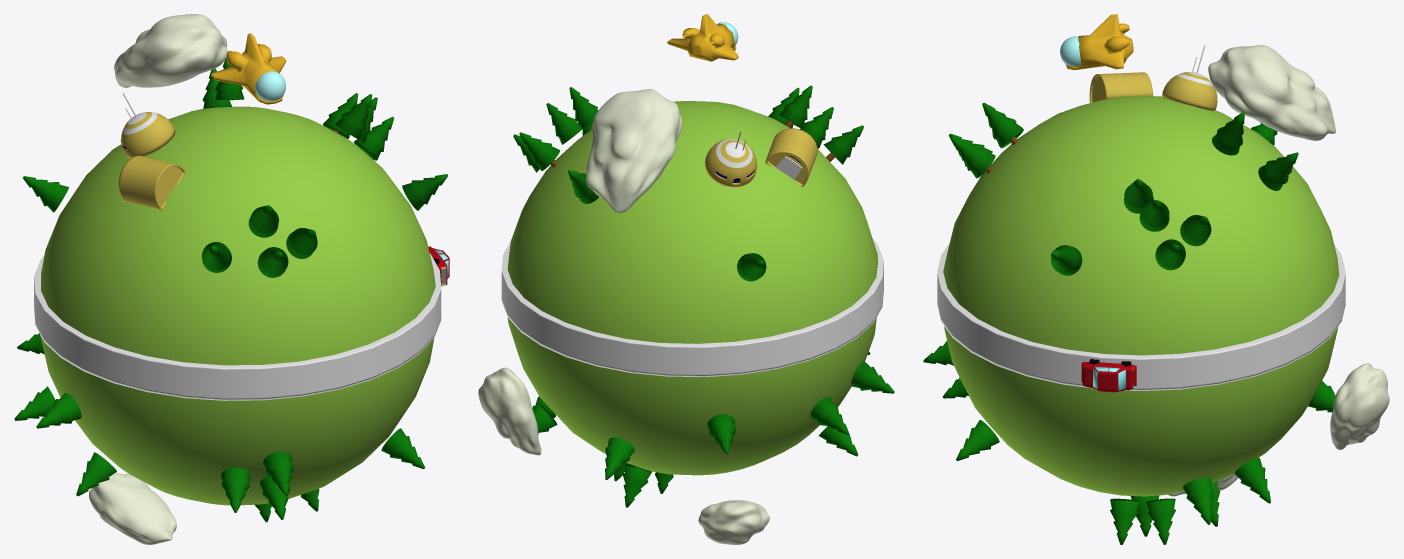
Rendered from world1.gltf.
3 renders of one model, left to right at view 1: azimuth 30°, elevation 25°; view 2: azimuth 150°, elevation 25°; view 3: azimuth 270°, elevation 25°, orthographic. The views are drawn at different scales.
Parts seen in each view (by area): view 1: Sphere, Cylinder, Icosphere, Icosphere.001, Cylinder.007, plane, Sphere.001, tree.012, tree.011, tree.013, tree.008, tree.026 (+13 smaller); view 2: Sphere, Cylinder, Icosphere, Icosphere.002, Icosphere.001, plane, Cylinder.007, Sphere.001, tree.019, tree.024, tree.011, tree.023 (+11 smaller); view 3: Sphere, Cylinder, Icosphere, Icosphere.002, plane, Cylinder.007, Sphere.001, carbody, tree.009, tree.010, tree.021, tree.022 (+10 smaller).
Part boxes in pixels (x1,y1,x2,y2): Sphere: (40,106,435,505); Cylinder: (34,253,441,400); Icosphere: (114,14,227,87); Icosphere.001: (89,472,176,544); Cylinder.007: (118,155,186,210); plane: (210,33,286,104); Sphere.001: (120,112,175,158); tree.012: (221,467,250,512); tree.011: (36,393,81,428); tree.013: (263,451,293,495); tree.008: (402,174,447,210); tree.026: (381,428,425,469); Sphere: (507,101,878,475); Cylinder: (501,239,883,376); Icosphere: (586,89,682,212); Icosphere.002: (478,367,541,455); Icosphere.001: (698,500,769,544); plane: (667,14,738,61); Cylinder.007: (765,128,817,186); Sphere.001: (705,139,757,187); tree.019: (810,397,849,434); tree.024: (605,437,634,479); tree.011: (851,361,894,393); tree.023: (707,414,735,453); Sphere: (943,95,1339,496); Cylinder: (937,243,1345,390); Icosphere: (1208,45,1335,140); Icosphere.002: (1330,363,1389,449); plane: (1065,14,1133,70); Cylinder.007: (1089,72,1153,102); Sphere.001: (1162,72,1217,110); carbody: (1081,362,1136,392); tree.009: (1258,152,1298,190); tree.010: (1212,112,1244,155); tree.021: (1183,477,1213,524); tree.022: (1234,458,1270,503).
Size of what is drawn, in the model's own units: 2.31 by 2.82 by 2.33.
